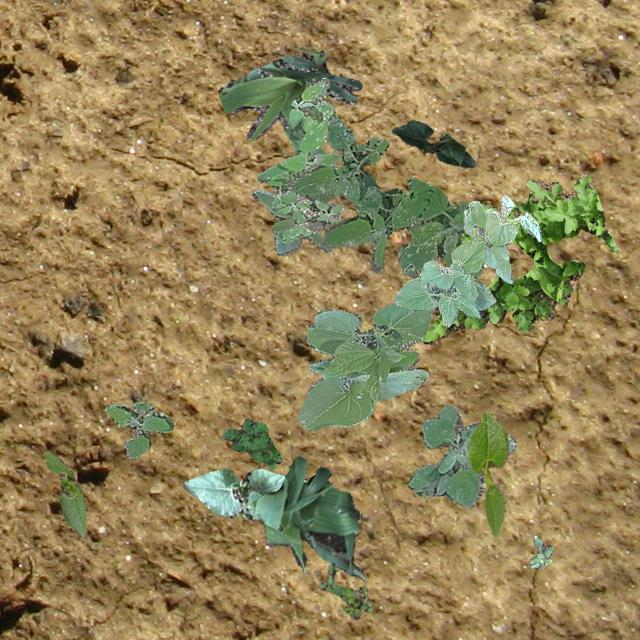crop: (392, 194, 540, 326), (298, 302, 432, 430), (216, 47, 362, 156), (252, 454, 364, 580), (182, 468, 284, 520), (468, 412, 508, 536), (390, 120, 474, 167), (44, 450, 86, 536)
weed: (422, 172, 616, 344), (286, 114, 482, 276), (256, 76, 344, 242), (406, 402, 516, 507), (252, 188, 332, 254), (104, 401, 172, 458), (220, 418, 280, 468), (320, 562, 372, 618), (530, 534, 552, 568)
